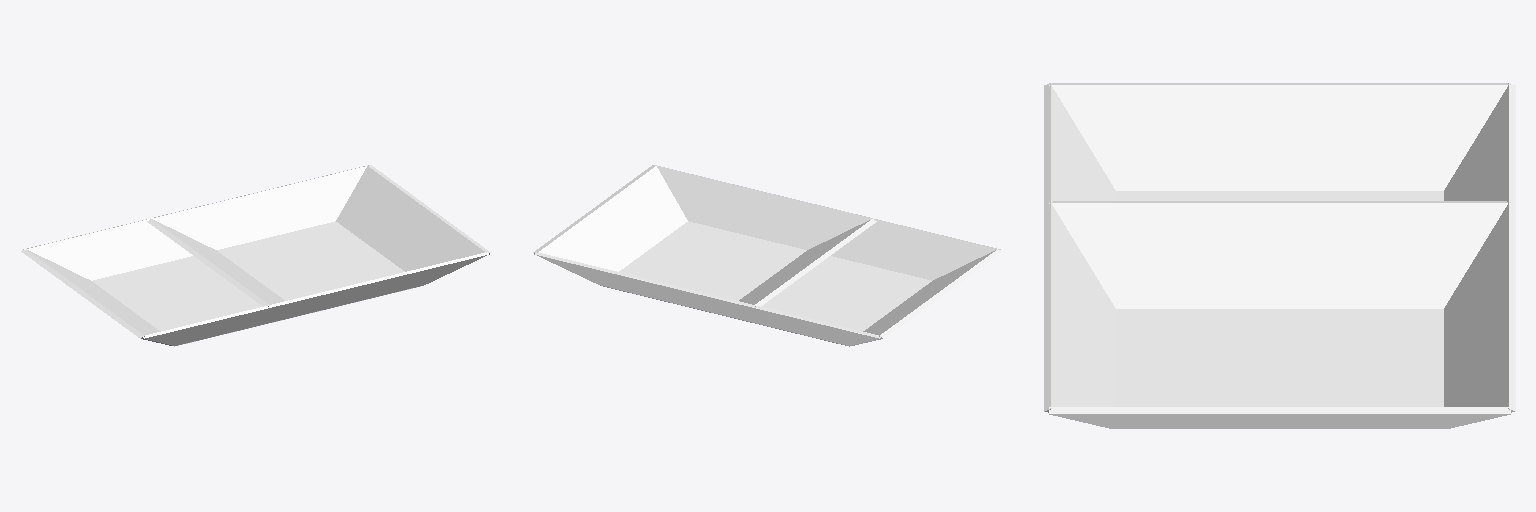
robot.urdf — tabletop:
<robot name="tabletop">
  <link name="base_link">
    <inertial>
      <origin rpy="0 0 0" xyz="0 0 0"/>
      <mass value="0"/>
      <inertia ixx="0" ixy="0" ixz="0" iyy="0" iyz="0" izz="0"/>
    </inertial>
    <visual>
      <origin rpy="0 0 0" xyz="0 0 0"/>
      <geometry>
        <mesh filename="tray.obj" scale="0.5 0.3 0.2"/>
      </geometry>
      <material name="tray_material">
        <color rgba="1 1 1 1"/>
      </material>
    </visual>
    <collision>
      <origin rpy="0 0 0" xyz="0 0 0"/>
      <geometry>
        <mesh filename="tray.obj" scale="0.5 0.3 0.2"/>
      </geometry>
    </collision>
  </link>
</robot>

--- Facts derived from the render (not from the file) ---
The picture shows the robot from 3 angles, left to right: view 1: azimuth 30°, elevation 25°; view 2: azimuth 150°, elevation 25°; view 3: azimuth 270°, elevation 25°; orthographic projection.
Robot: tabletop — 1 links, 0 joints (none); root link base_link; default pose: every joint at zero.
Links seen in each view (by area): view 1: base_link; view 2: base_link; view 3: base_link.
Link boxes in pixels (<box>): base_link: <box>21,165,490,346</box>; base_link: <box>533,165,1002,346</box>; base_link: <box>1044,83,1515,428</box>.
Size in the robot's own frame: 0.5901 by 0.354 by 0.0542 metres.
Meshes: 1 distinct files referenced, 1 mesh visuals loaded (1 OBJ).